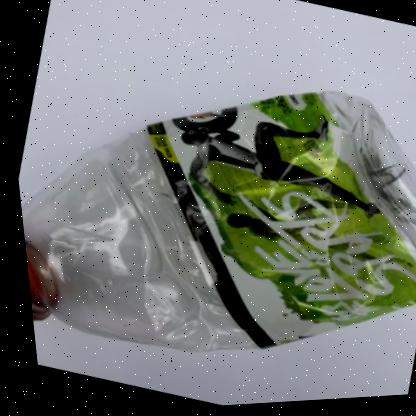Plastic: (17, 95, 416, 354)
